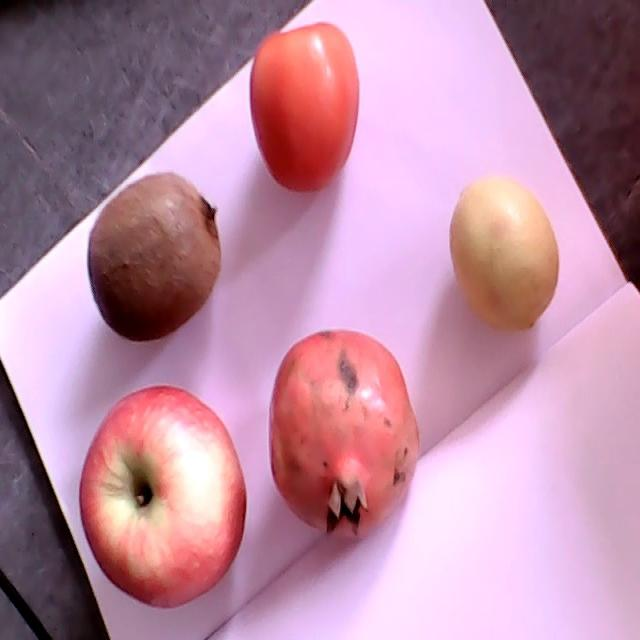apple: (81, 385, 246, 607)
kiwi: (89, 172, 220, 342)
lemon: (450, 180, 558, 330)
pomegranate: (268, 332, 419, 537)
tomato: (251, 20, 359, 193)
